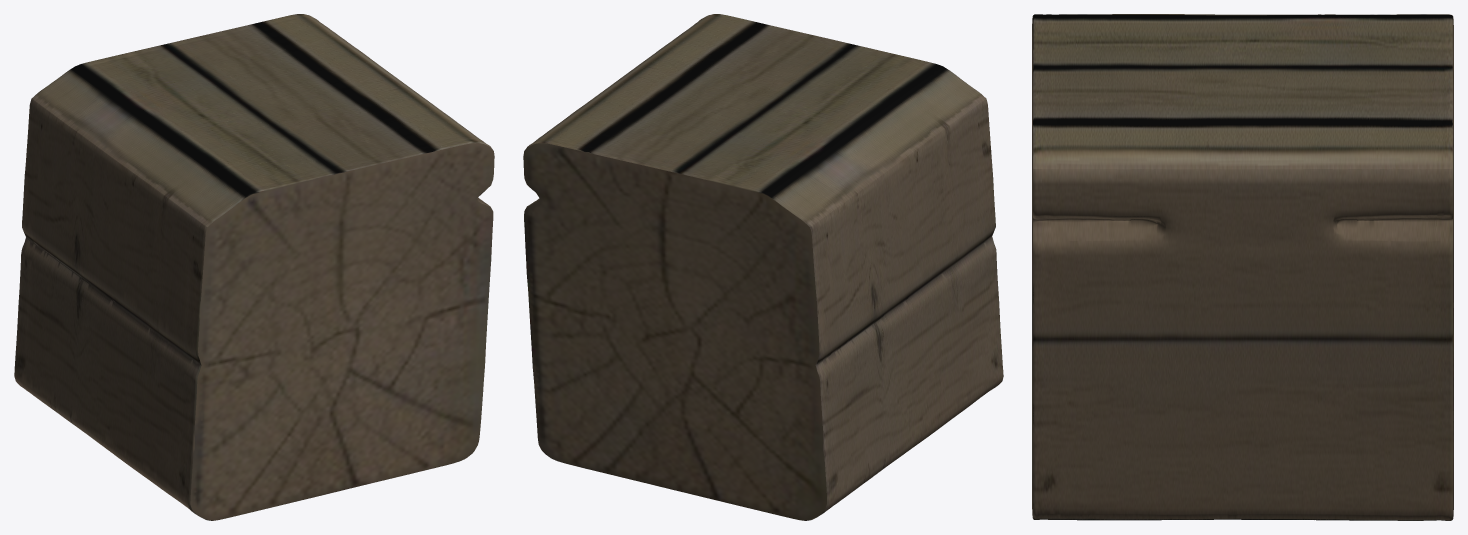
The model's file is facade-trim.glb.
3 renders of one model, left to right at view 1: azimuth 30°, elevation 25°; view 2: azimuth 150°, elevation 25°; view 3: azimuth 270°, elevation 25°, orthographic. The views are drawn at different scales.
Parts seen in each view (by area): view 1: tmpoaw_j6pc.ply; view 2: tmpoaw_j6pc.ply; view 3: tmpoaw_j6pc.ply.
Part boxes in pixels (box(x1,y1,x2,y2)): tmpoaw_j6pc.ply: box(14, 14, 494, 520); tmpoaw_j6pc.ply: box(523, 14, 1003, 520); tmpoaw_j6pc.ply: box(1032, 14, 1453, 520).
Bounding box in the file's own units: 1 × 1 × 1.
Materials: 1 (1 with a texture image).
